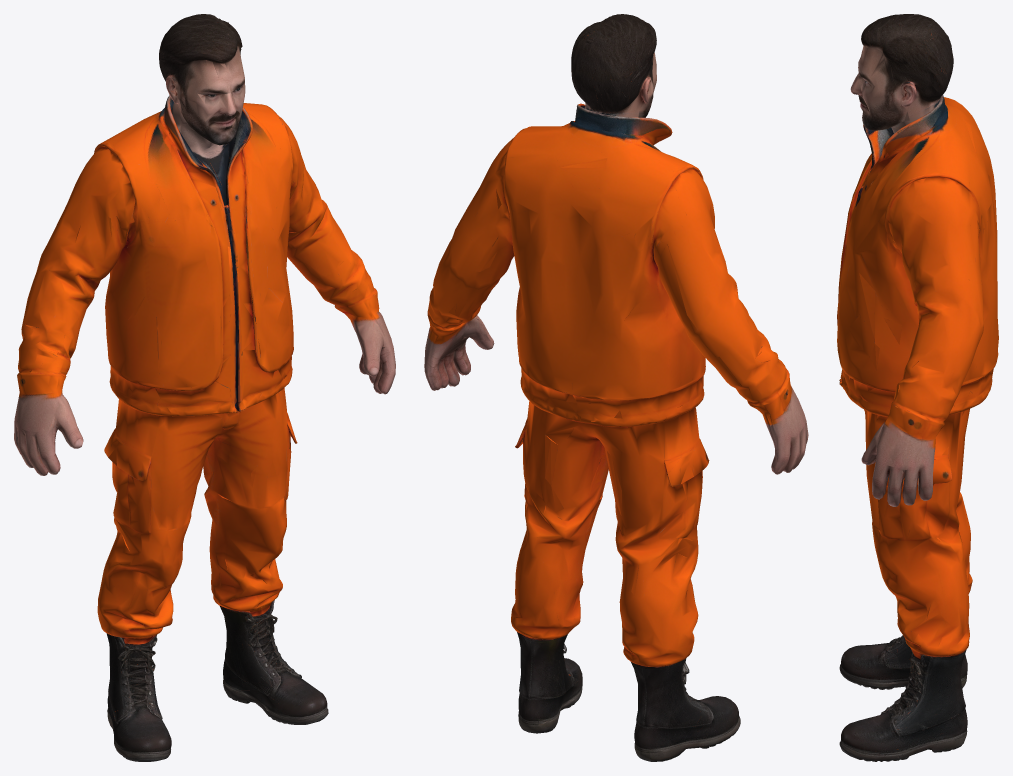
Rendered from hunter-blaze-full.glb.
3 views of the same model, side by side, from view 1: azimuth 30°, elevation 25°; view 2: azimuth 150°, elevation 25°; view 3: azimuth 270°, elevation 25° (orthographic).
Size of the model in its own units: 1.09 by 2 by 0.42.
1 material, 1 textured.
